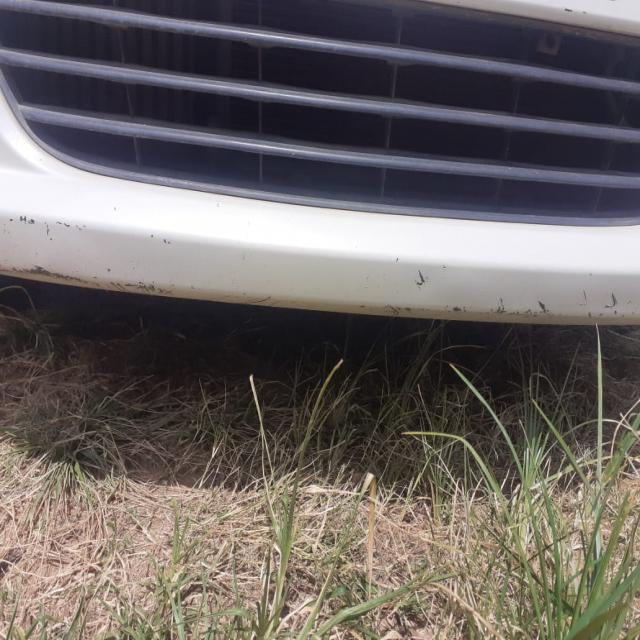front-bumper-dent: (0, 45, 639, 344)
